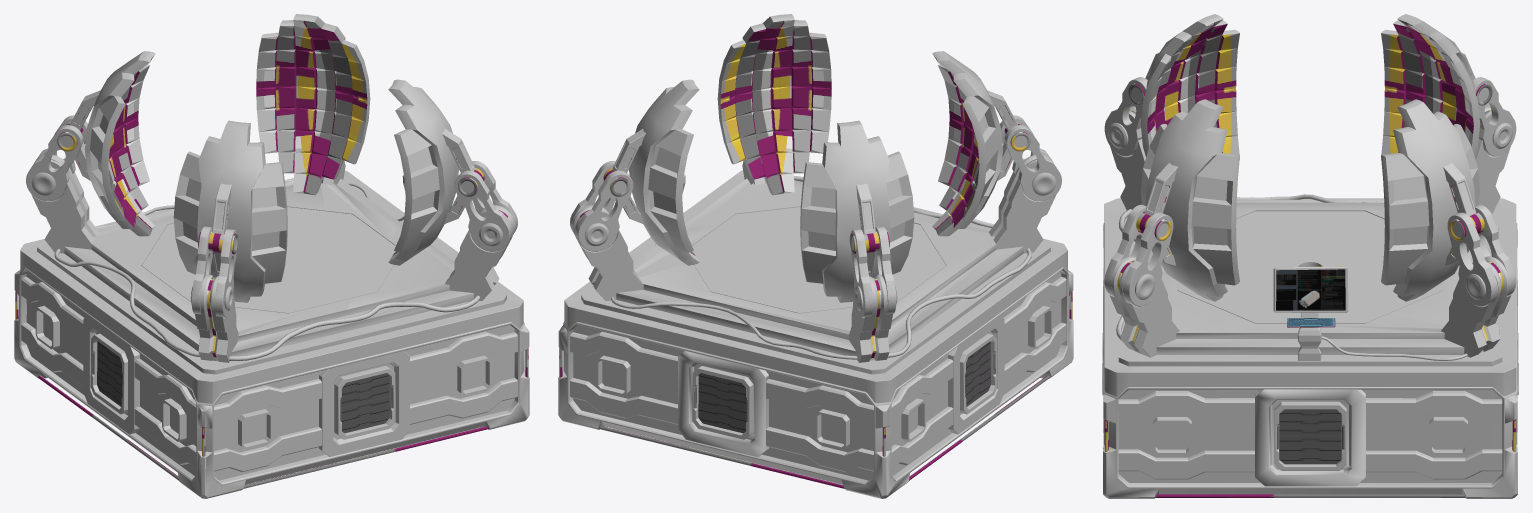
Rendered from NanoRepairModule.fbx.
The picture shows the model from 3 angles, left to right: view 1: azimuth 30°, elevation 25°; view 2: azimuth 150°, elevation 25°; view 3: azimuth 270°, elevation 25°; orthographic projection. The views are drawn at different scales.
Visible parts, largest first — view 1: NaniteBase, RefractorRear, RefractorFront, re-enforcement bars.001, BaseCrown, RefractorBase, LargeConveyorFrame_01, UpperArm, highlight2_section_1, RefractorMount, UpgradePorts, refractorwires (+5 smaller); view 2: NaniteBase, RefractorRear, RefractorFront, re-enforcement bars.001, BaseCrown, RefractorBase, LargeConveyorFrame_01, UpperArm, highlight4_section_1, RefractorMount, UpgradePorts, airtight_corner_002.001 (+5 smaller); view 3: NaniteBase, RefractorRear, RefractorFront, BaseCrown, re-enforcement bars.001, RefractorBase, UpperArm, LargeConveyorFrame_01, highlight1_section_1, console1_section_1, RefractorMount, airtight_corner_002.001 (+6 smaller).
Part boxes in pixels (<box>): NaniteBase: <box>19,175,524,485</box>; RefractorRear: <box>84,14,458,302</box>; RefractorFront: <box>108,20,398,261</box>; re-enforcement bars.001: <box>21,277,517,471</box>; BaseCrown: <box>20,170,523,403</box>; RefractorBase: <box>31,155,515,362</box>; LargeConveyorFrame_01: <box>83,315,409,456</box>; UpperArm: <box>26,115,517,317</box>; highlight2_section_1: <box>334,366,395,439</box>; RefractorMount: <box>57,90,484,274</box>; UpgradePorts: <box>35,305,491,449</box>; refractorwires: <box>54,178,480,361</box>; NaniteBase: <box>563,175,1068,485</box>; RefractorRear: <box>629,14,1003,302</box>; RefractorFront: <box>689,20,979,261</box>; re-enforcement bars.001: <box>570,277,1066,471</box>; BaseCrown: <box>564,170,1067,403</box>; RefractorBase: <box>572,155,1056,362</box>; LargeConveyorFrame_01: <box>678,315,1004,456</box>; UpperArm: <box>570,115,1061,317</box>; highlight4_section_1: <box>692,366,753,439</box>; RefractorMount: <box>603,90,1030,274</box>; UpgradePorts: <box>596,305,1052,449</box>; airtight_corner_002.001: <box>558,317,1073,498</box>; NaniteBase: <box>1103,199,1517,494</box>; RefractorRear: <box>1140,14,1480,301</box>; RefractorFront: <box>1147,19,1473,159</box>; BaseCrown: <box>1104,198,1516,396</box>; re-enforcement bars.001: <box>1118,391,1502,479</box>; RefractorBase: <box>1109,106,1511,357</box>; UpperArm: <box>1104,77,1516,306</box>; LargeConveyorFrame_01: <box>1255,389,1365,486</box>; highlight1_section_1: <box>1274,401,1346,470</box>; console1_section_1: <box>1273,266,1348,327</box>; RefractorMount: <box>1128,53,1492,266</box>; airtight_corner_002.001: <box>1103,280,1517,498</box>.
Size of the model in its own units: 757 by 703 by 753.
